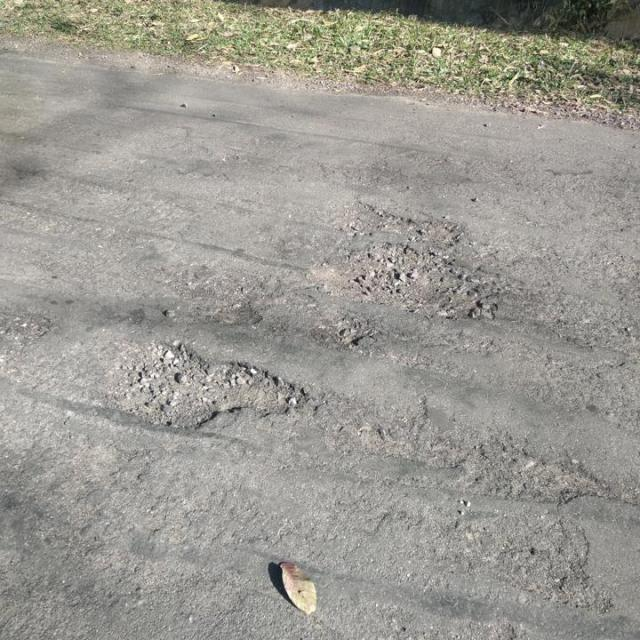pothole: (108, 336, 312, 428), (314, 242, 516, 316), (331, 198, 468, 246), (328, 316, 374, 352)
